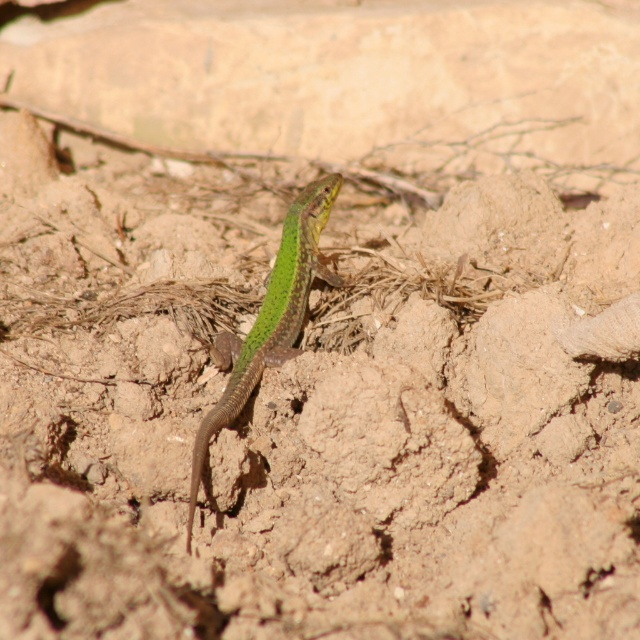Lizard: (166, 159, 332, 568)
